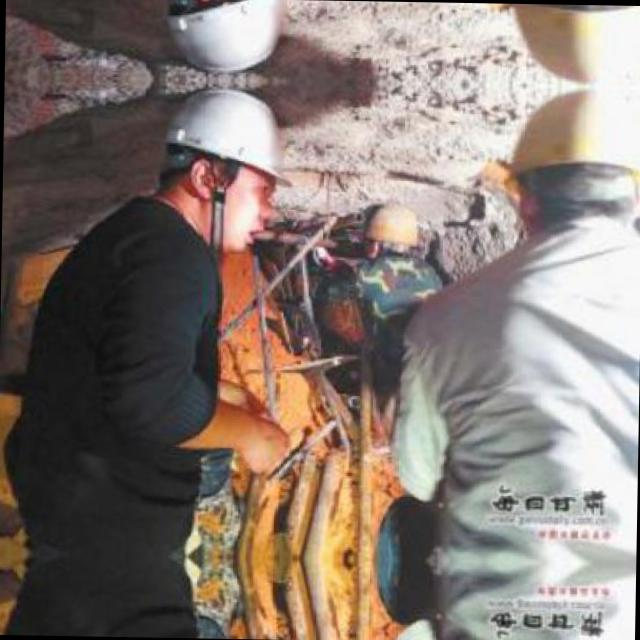helmet: (479, 88, 640, 252), (150, 80, 288, 234), (481, 3, 640, 84), (152, 0, 290, 81), (362, 202, 426, 260)
